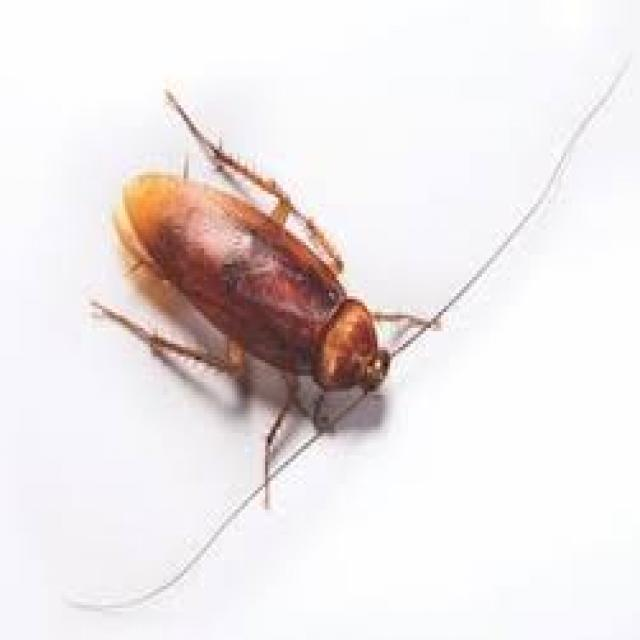Cockroach: (44, 34, 640, 616)
